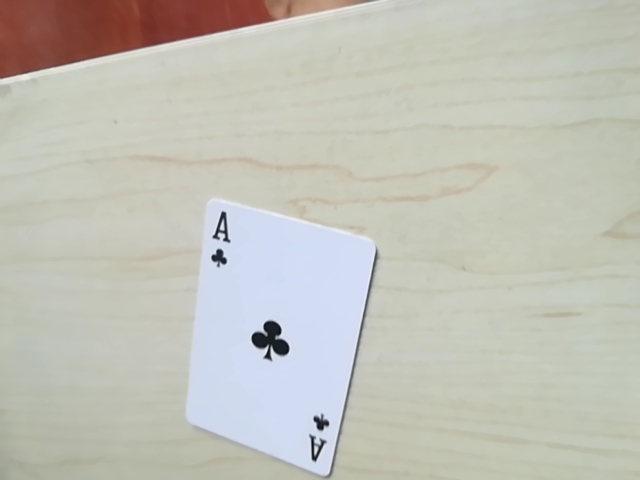mh a: (201, 200, 238, 284), (297, 405, 336, 477)
